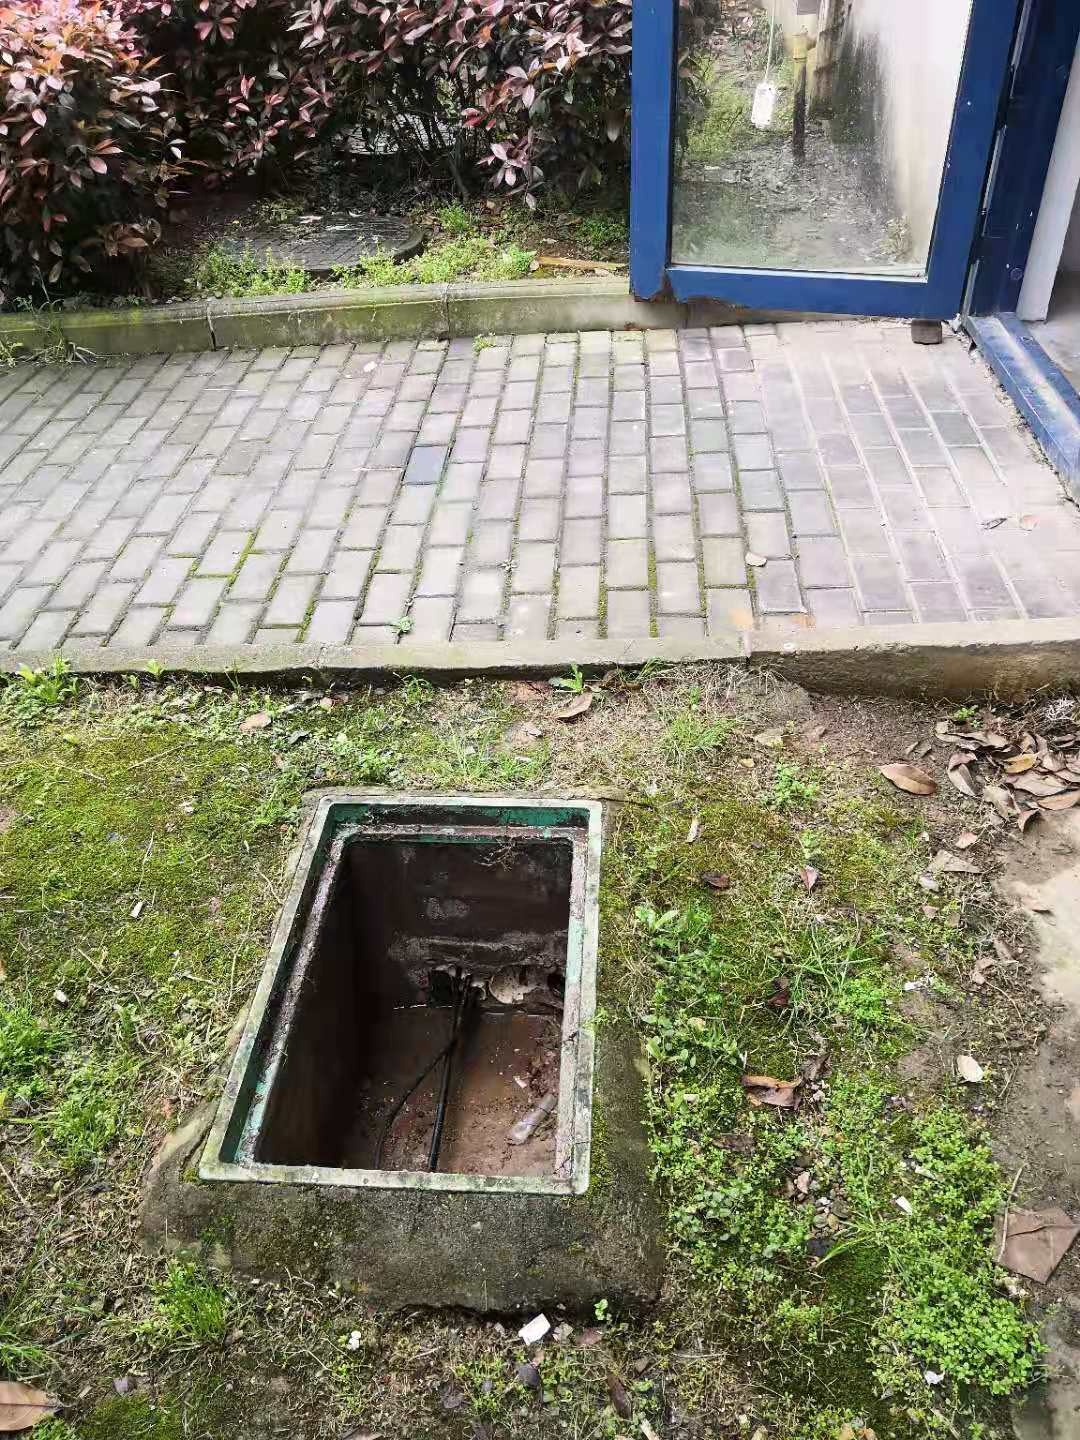lose: (206, 788, 610, 1202)
